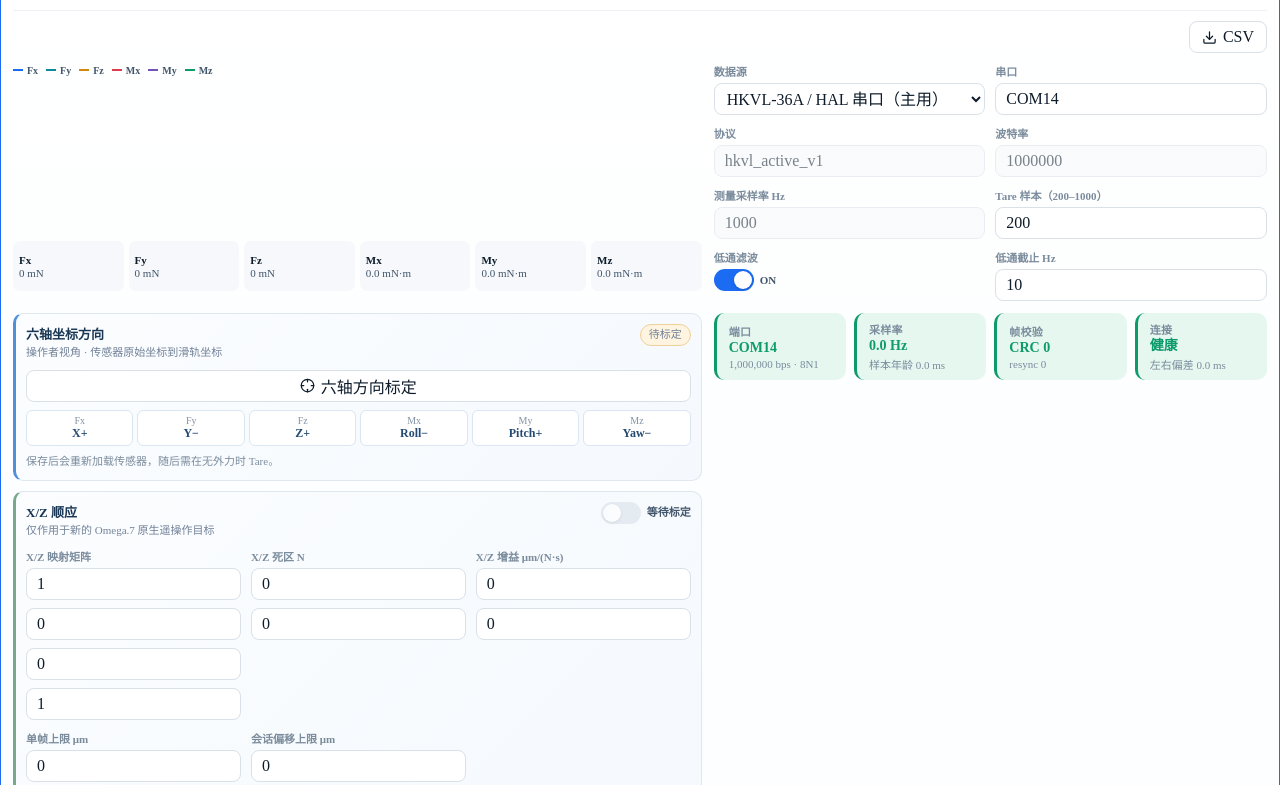
Test: AppStation M0 frontend › opens the operator-side six-axis force direction calibration
(page scrolled)
Click the button with aria-label "左臂六轴方向标定" at (358, 386), box [26,370,691,402]
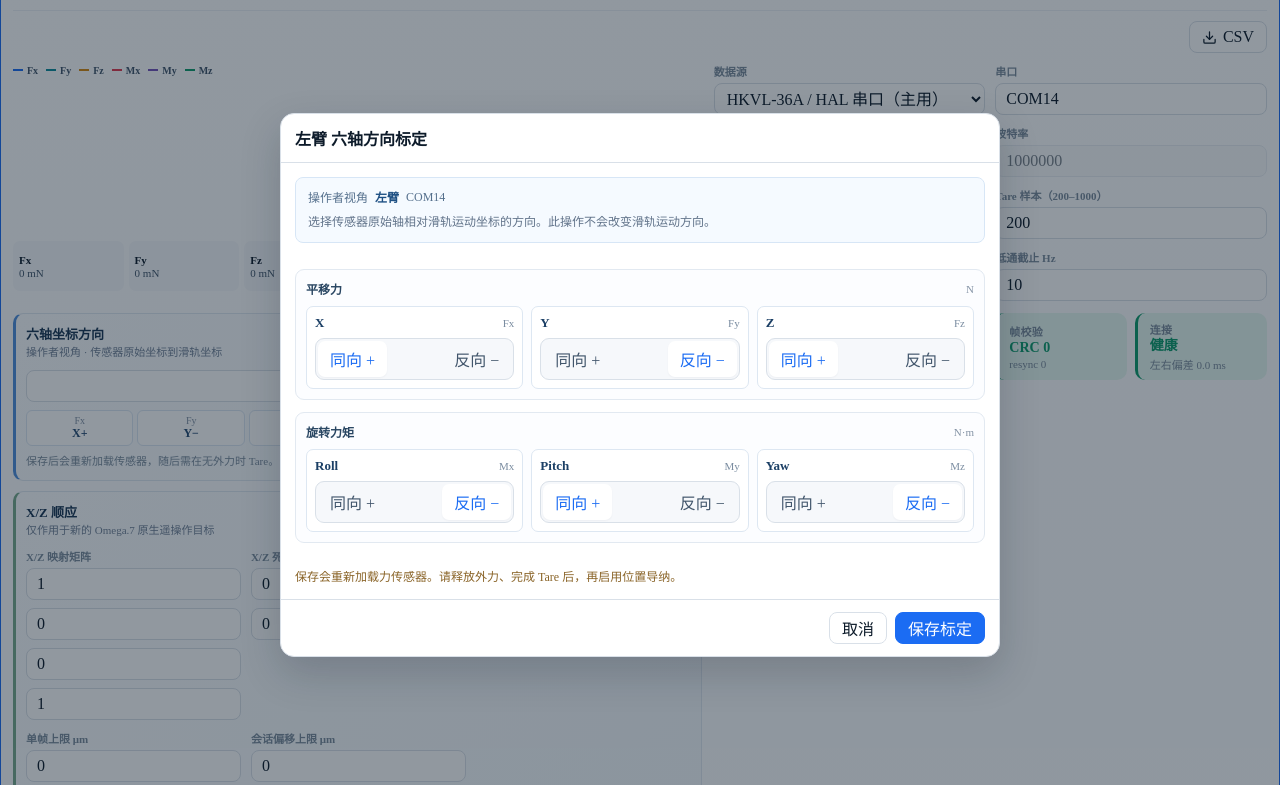
Now the dialog shows "左臂 六轴方向标定", box [295,131,427,148]
Now the element named "左臂X方向" is shown, box [315,338,514,380]
